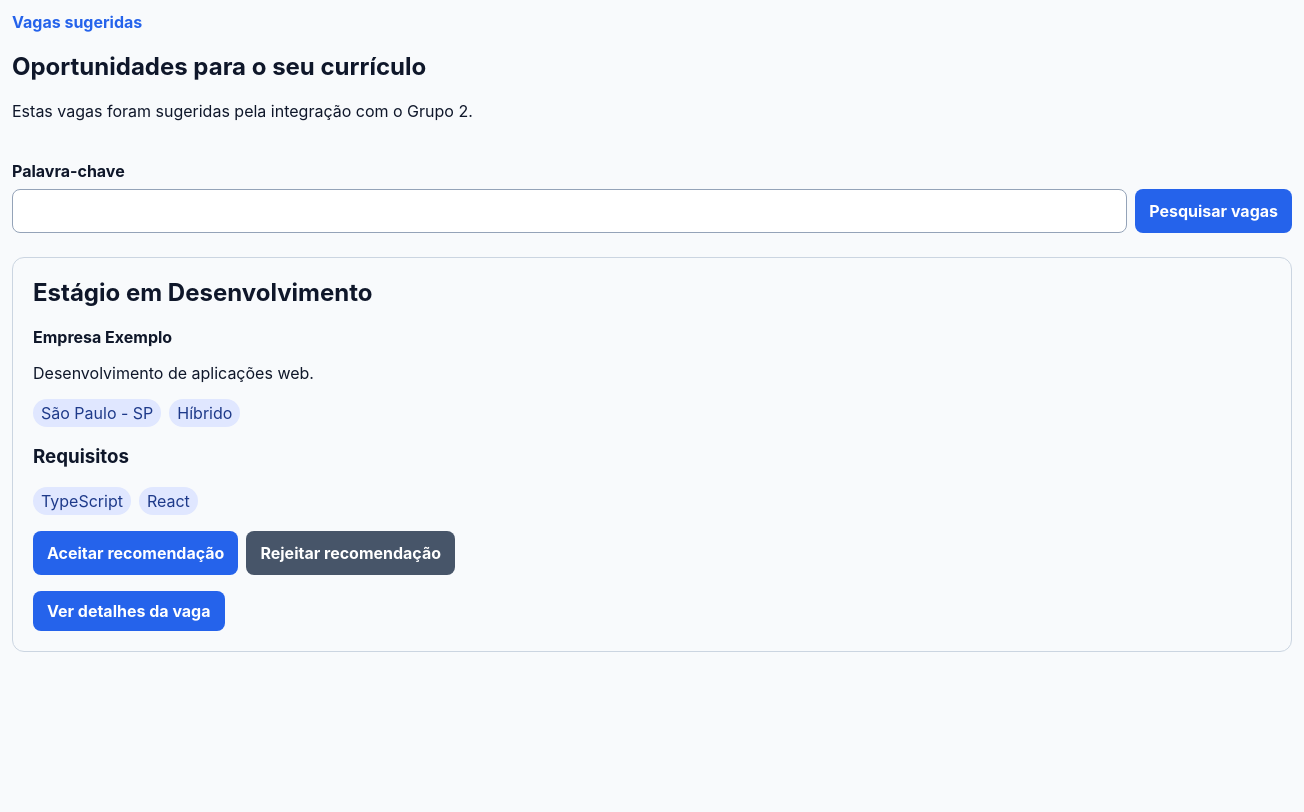
Test case: TelaVagasGrupo2 › não confirma sucesso se salvar falhar e permite nova tentativa
Expected: the heading "Estágio em Desenvolvimento" is shown, [33,278,372,307]
What coordinates should you click on to do the following:
click the button "Rejeitar recomendação"
I would click on:
 (351, 553)
Its box is [246,531,455,575].
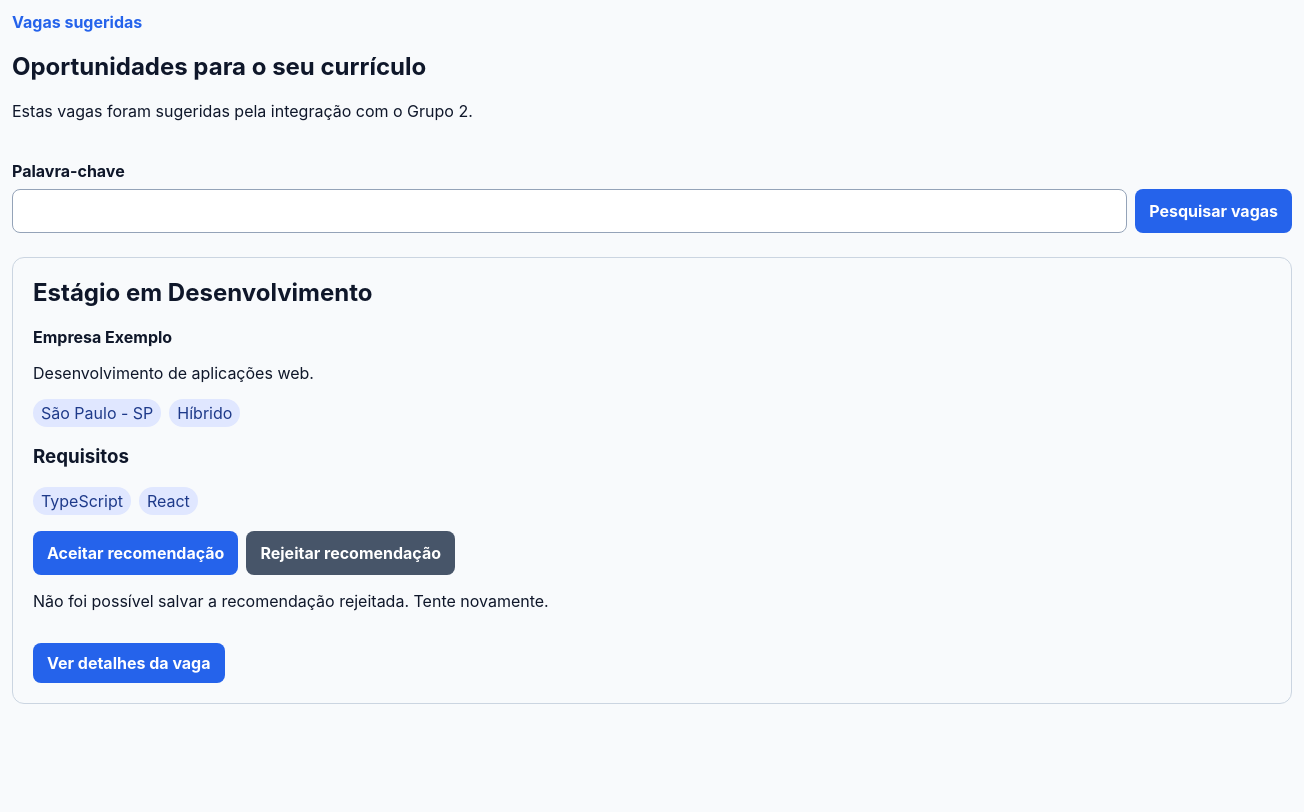
Expected: the message shows "Não foi possível salvar a recomendação rejeitada", [33,591,549,611]
